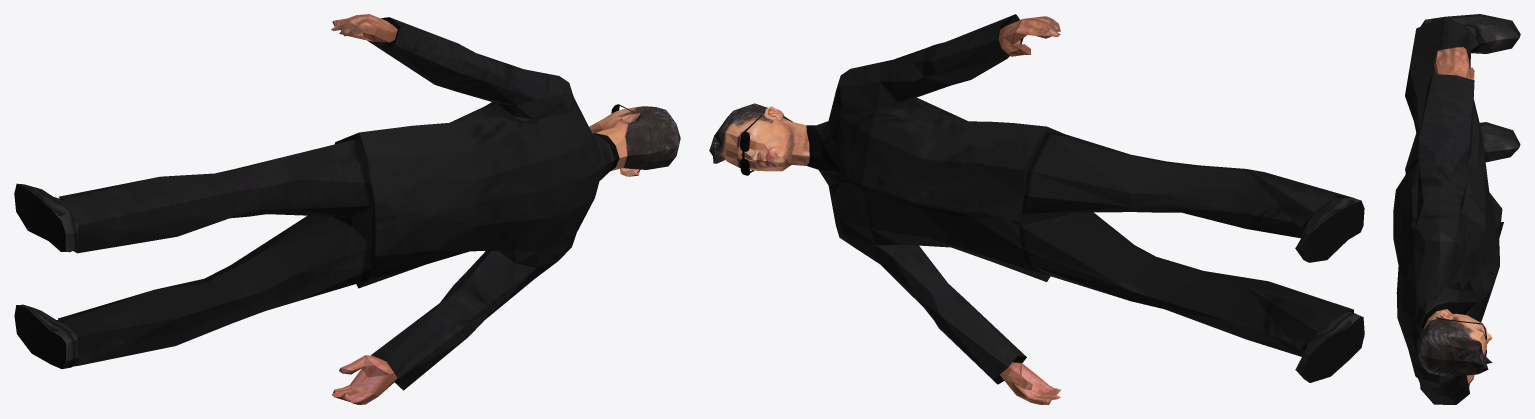
Rendered from wuzimu.obj.
3 views of the same model, side by side, from view 1: azimuth 30°, elevation 25°; view 2: azimuth 150°, elevation 25°; view 3: azimuth 270°, elevation 25° (orthographic). The views are drawn at different scales.
Parts seen in each view (by area): view 1: Normal; view 2: Normal; view 3: Normal.
Part boxes in pixels (bbox=[...]): Normal: bbox=[14, 14, 680, 404]; Normal: bbox=[709, 14, 1364, 404]; Normal: bbox=[1393, 14, 1520, 404].
Size of the model in its own units: 1.86 by 1.09 by 0.3633.
Materials: 1 (1 with a texture image).
